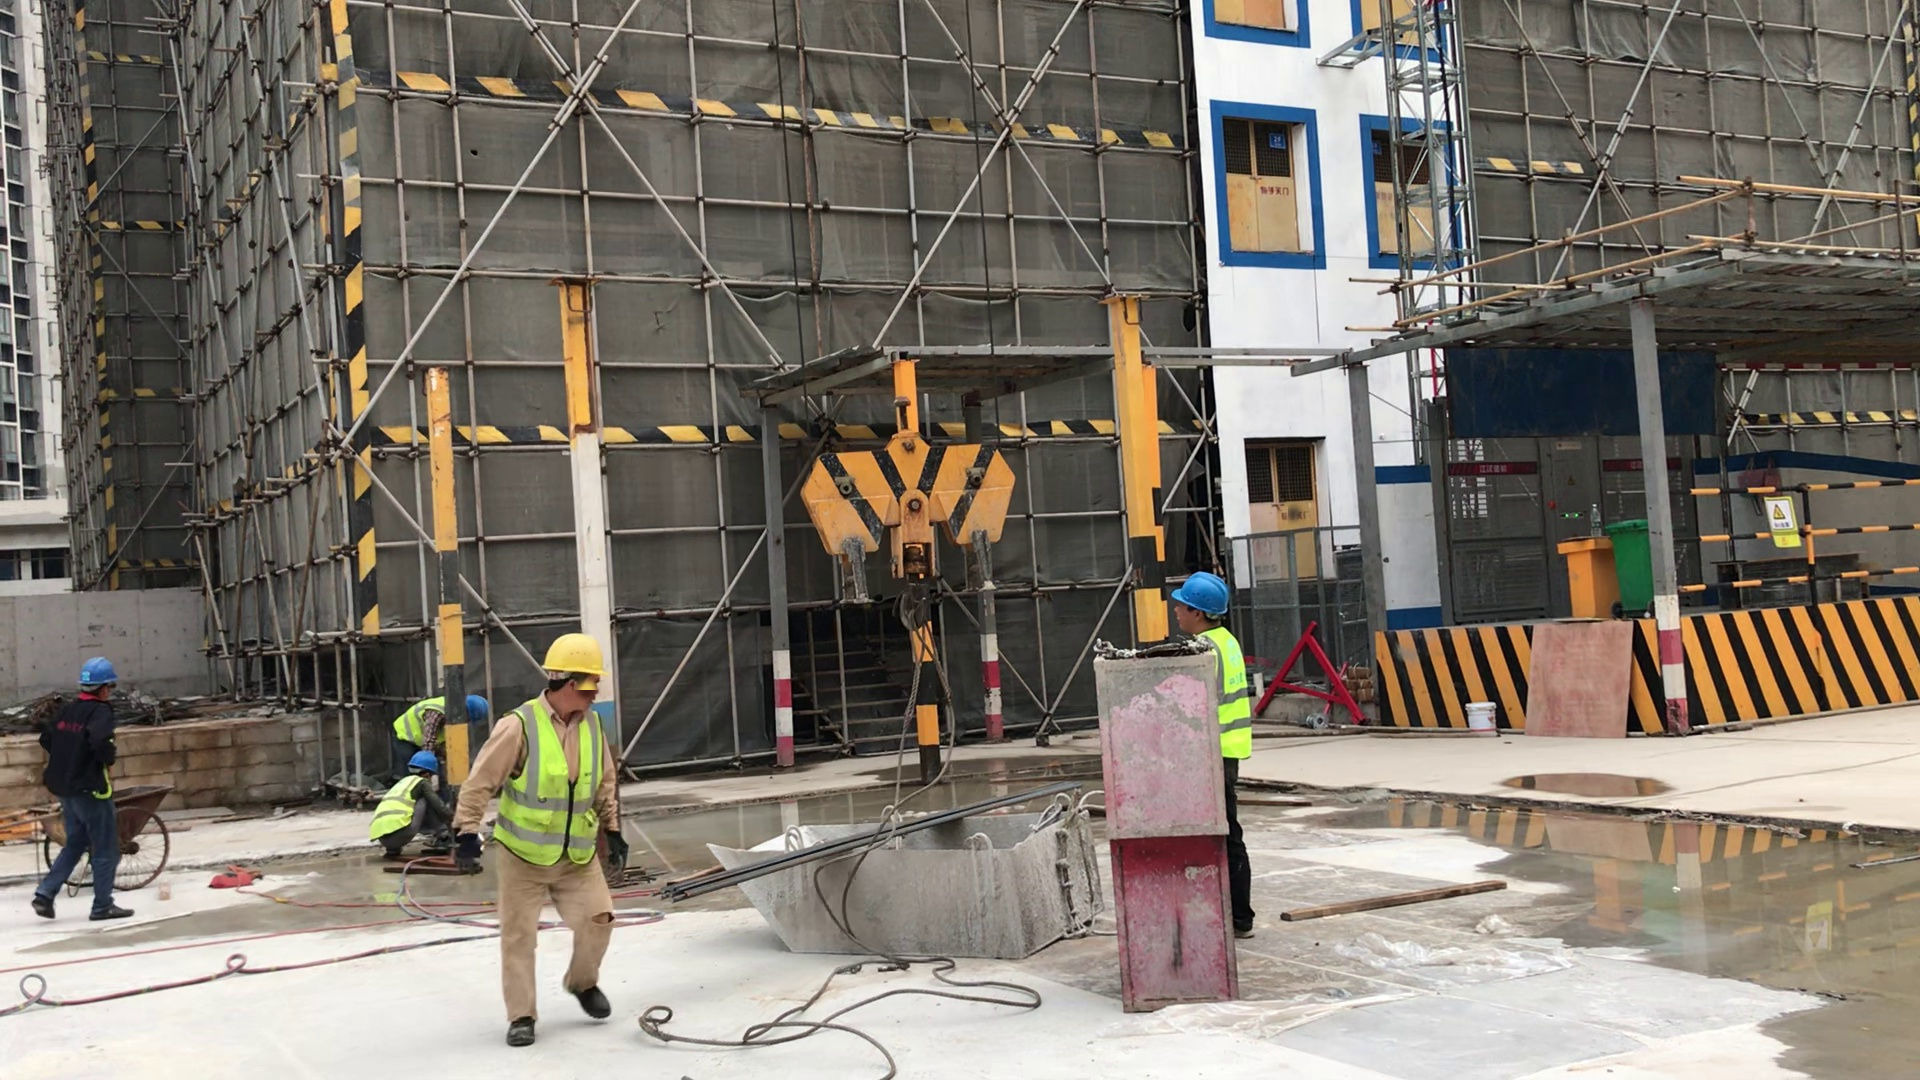fence: (1665, 461, 1920, 621)
handcart: (7, 778, 184, 905)
helmet: (535, 623, 623, 695), (1171, 562, 1250, 626), (65, 654, 129, 692), (461, 680, 504, 730), (400, 747, 446, 784)
hook: (787, 391, 1029, 635)
hopper: (692, 780, 1111, 973)
person: (462, 622, 677, 1043), (1090, 566, 1319, 961), (24, 639, 159, 933), (383, 684, 501, 792), (373, 745, 466, 884)
rebar: (663, 805, 977, 900)
slogan: (1760, 480, 1811, 561)
vest: (476, 693, 633, 877), (1175, 622, 1282, 766), (356, 766, 430, 850), (376, 688, 463, 754)
